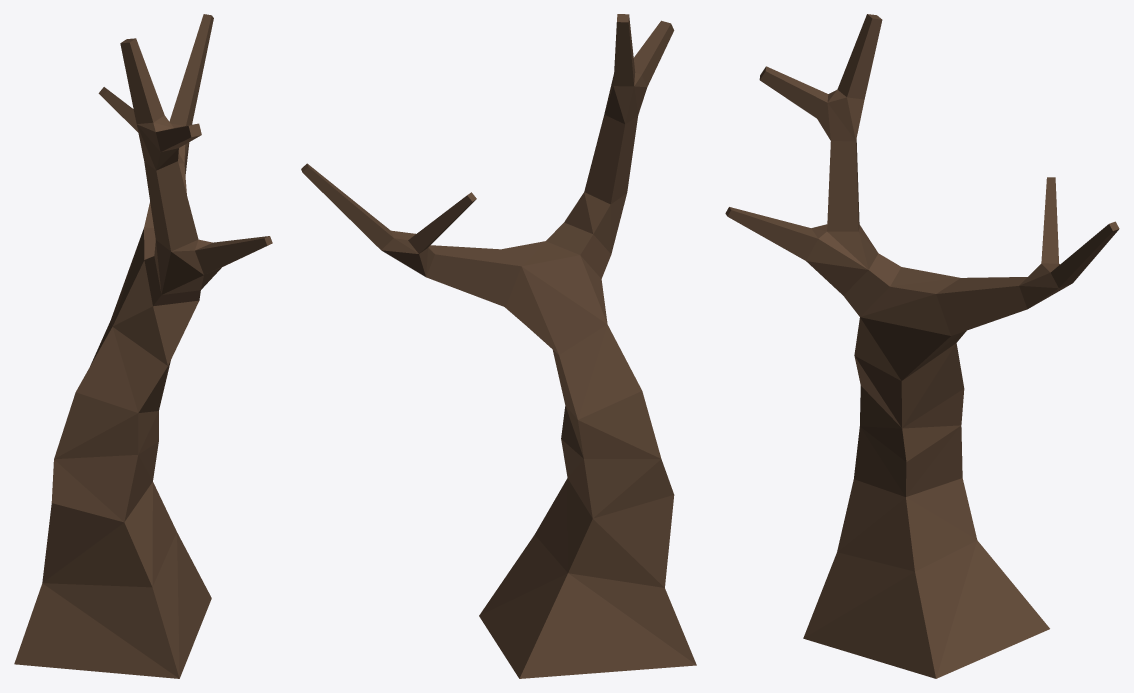
Rendered from tree2-dead.glb.
3 views of the same model, side by side, from view 1: azimuth 30°, elevation 25°; view 2: azimuth 150°, elevation 25°; view 3: azimuth 270°, elevation 25° (orthographic).
Parts seen in each view (by area): view 1: Trunk.007; view 2: Trunk.007; view 3: Trunk.007.
Part boxes in pixels (left/top/right/bottom): Trunk.007: left=14, top=14, right=272, bottom=678; Trunk.007: left=301, top=14, right=696, bottom=678; Trunk.007: left=725, top=14, right=1119, bottom=678.
Bounding box in the file's own units: 2.15 × 4.23 × 2.45.
